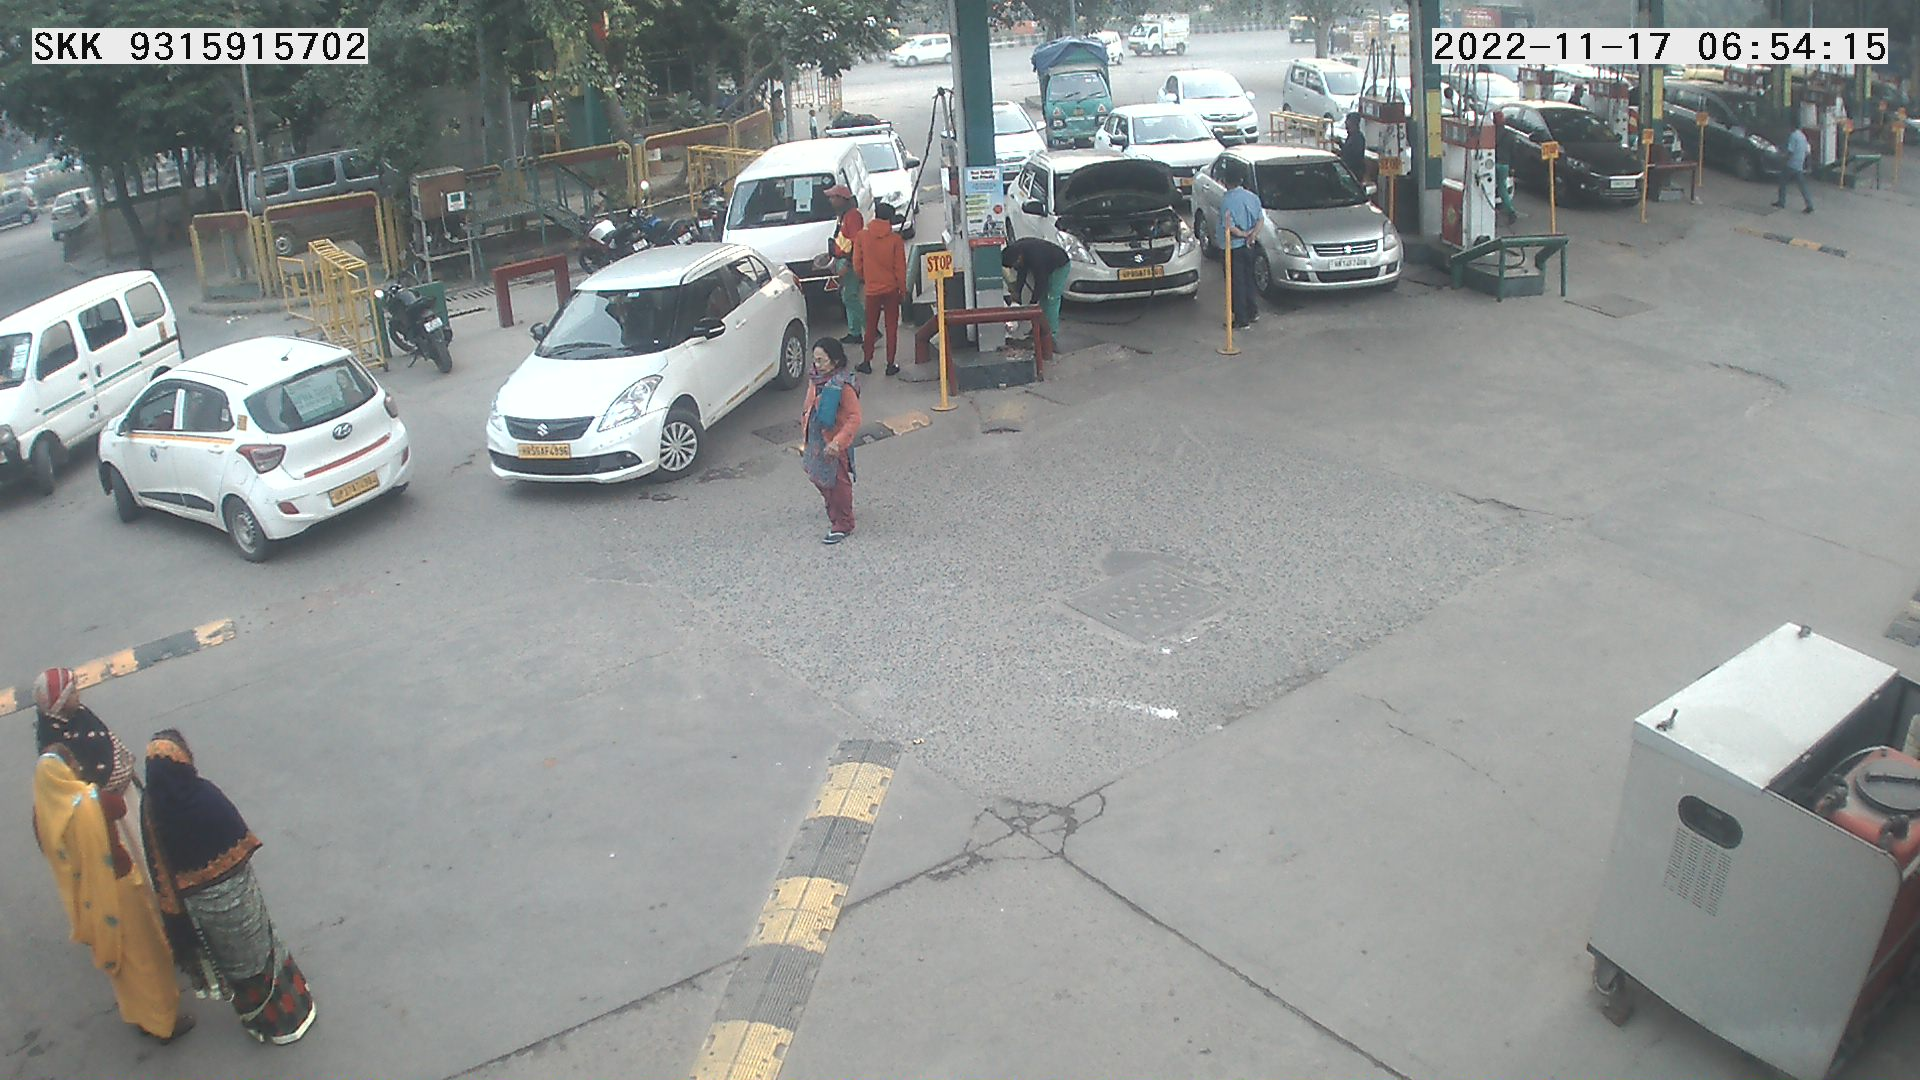Auto: (1006, 24, 1138, 167)
Bike: (363, 240, 462, 394), (554, 179, 650, 285), (620, 164, 708, 264), (682, 160, 756, 253)
Car: (467, 225, 844, 512), (76, 324, 440, 587), (3, 252, 199, 514), (705, 120, 893, 349), (1168, 132, 1400, 311), (990, 137, 1209, 320), (223, 142, 427, 273), (1468, 83, 1644, 218), (1501, 65, 1689, 186), (1640, 67, 1829, 189), (799, 102, 943, 257), (1076, 92, 1240, 220), (947, 80, 1059, 206), (1317, 65, 1416, 191), (1150, 51, 1265, 160), (1269, 53, 1375, 149), (1776, 66, 1869, 158), (1420, 61, 1530, 137), (1840, 50, 1917, 154), (881, 22, 972, 76), (42, 179, 104, 253), (1, 173, 45, 241)
HMV: (1120, 5, 1200, 66)
Others: (989, 231, 1083, 367), (818, 175, 880, 356), (1476, 98, 1518, 225), (1335, 98, 1378, 193), (1625, 86, 1655, 165)
Others Other: (914, 240, 963, 425), (1213, 198, 1251, 373), (1531, 125, 1573, 257), (1684, 95, 1718, 219), (1371, 135, 1411, 240), (1629, 109, 1659, 233), (1826, 109, 1858, 208), (1890, 102, 1909, 204)
